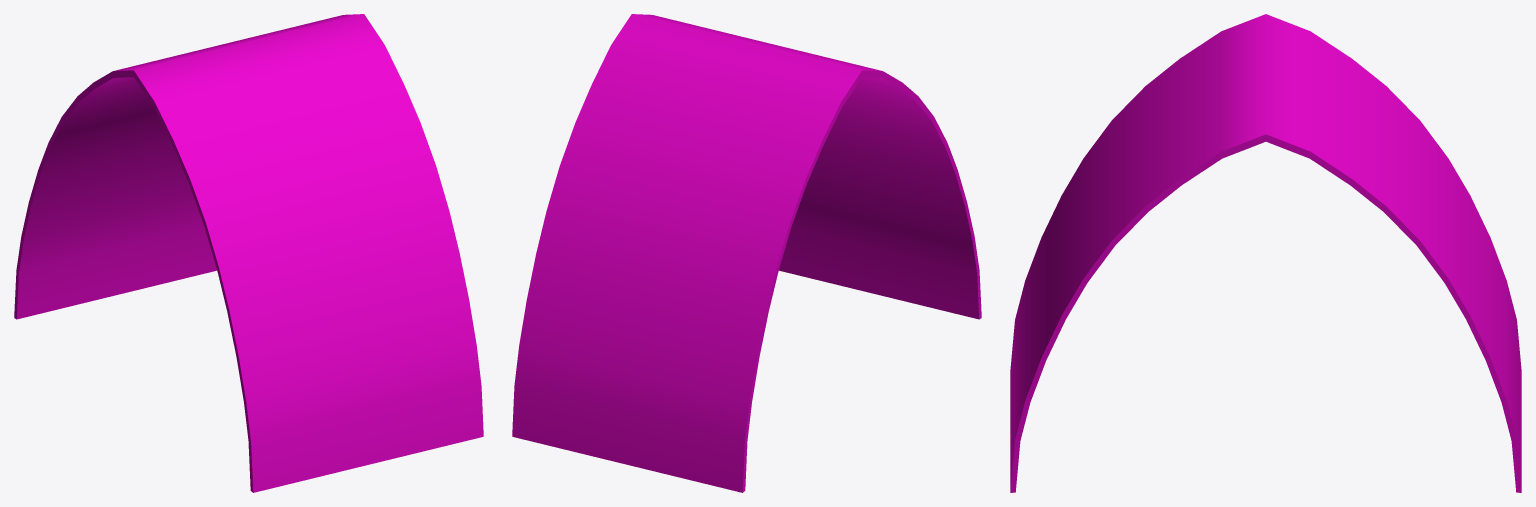
File: Arch_Simple_01.fbx
3 renders of one model, left to right at view 1: azimuth 30°, elevation 25°; view 2: azimuth 150°, elevation 25°; view 3: azimuth 270°, elevation 25°, orthographic. The views are drawn at different scales.
Visible parts, largest first — view 1: Arch_Simple_01; view 2: Arch_Simple_01; view 3: Arch_Simple_01.
Part boxes in pixels (box(x1,y1,x2,y2)): Arch_Simple_01: box(14, 14, 483, 492); Arch_Simple_01: box(512, 14, 981, 492); Arch_Simple_01: box(1010, 14, 1521, 492).
Bounding box in the file's own units: 300 × 417 × 539.
